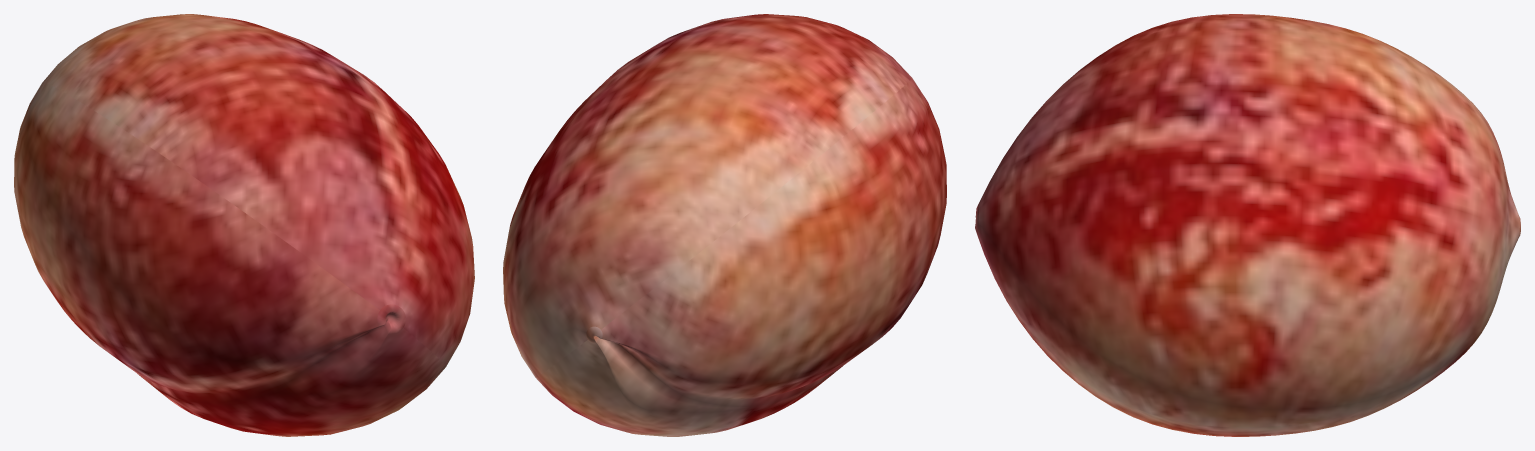
Rendered from CherrySeed.obj.
The picture shows the model from 3 angles, left to right: view 1: azimuth 30°, elevation 25°; view 2: azimuth 150°, elevation 25°; view 3: azimuth 270°, elevation 25°; orthographic projection. The views are drawn at different scales.
Parts seen in each view (by area): view 1: CherrySeed; view 2: CherrySeed; view 3: CherrySeed.
Part boxes in pixels (<box>): CherrySeed: <box>14,14,474,436</box>; CherrySeed: <box>503,14,946,436</box>; CherrySeed: <box>975,14,1520,436</box>.
Size of the model in its own units: 0.0119 by 0.0119 by 0.0162.
Materials: 1 (1 with a texture image).
